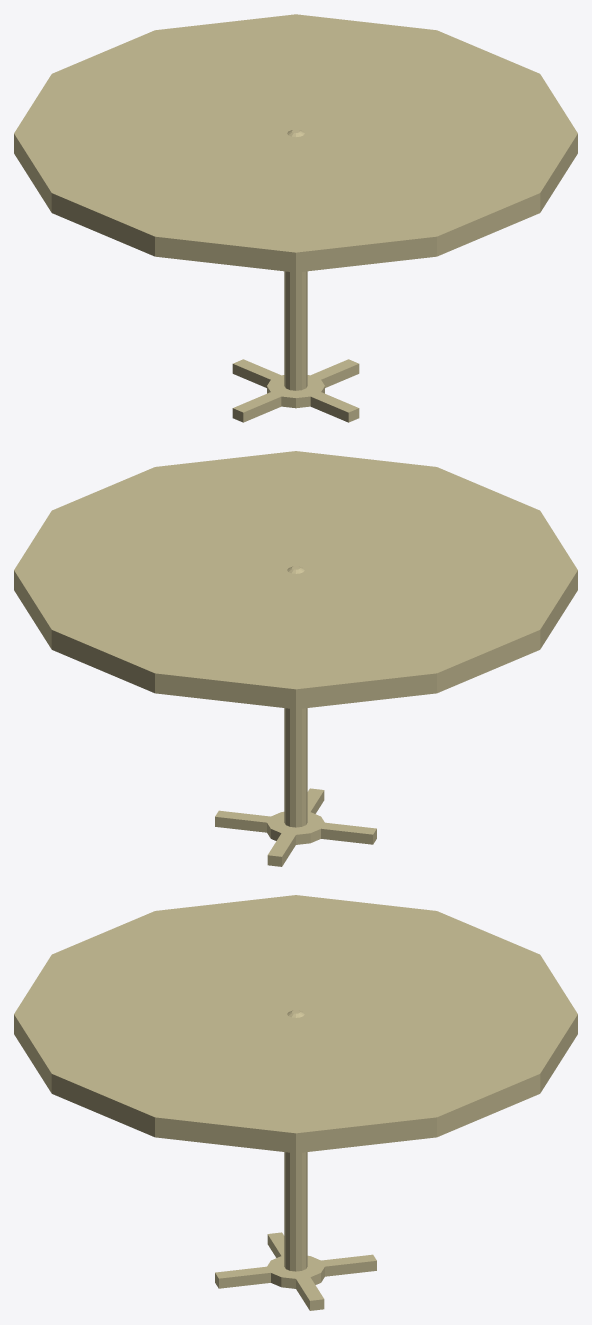
The model's file is table.fbx.
3 renders of one model, top to bottom at view 1: azimuth 30°, elevation 25°; view 2: azimuth 150°, elevation 25°; view 3: azimuth 270°, elevation 25°, orthographic.
Parts seen in each view (by area): view 1: table; view 2: table; view 3: table.
Part boxes in pixels (bbox=[...]): table: bbox=[14, 14, 577, 422]; table: bbox=[14, 451, 577, 866]; table: bbox=[14, 895, 577, 1310].
Bounding box in the file's own units: 82.25 × 42.59 × 82.25.
